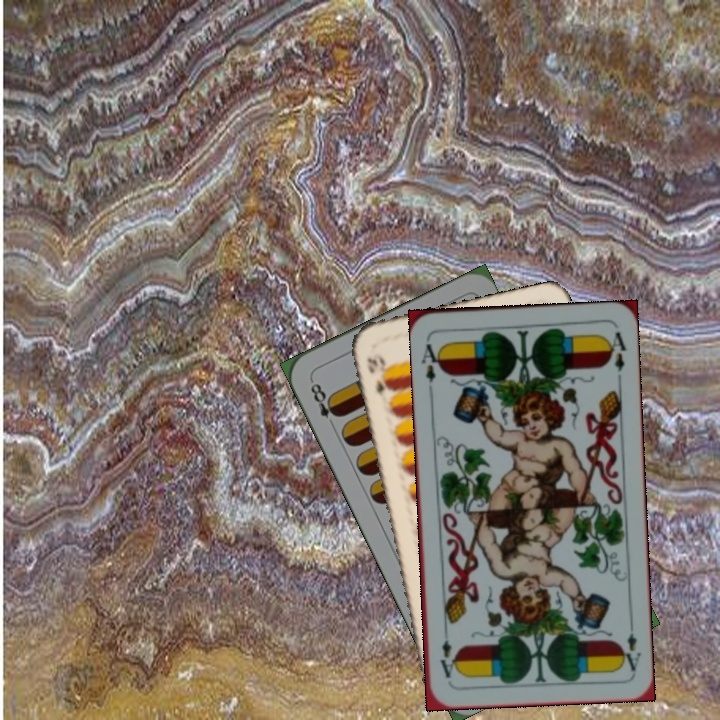E10: (363, 350, 392, 405)
E8: (306, 375, 343, 431)
EA: (617, 616, 643, 674), (418, 335, 445, 386)
